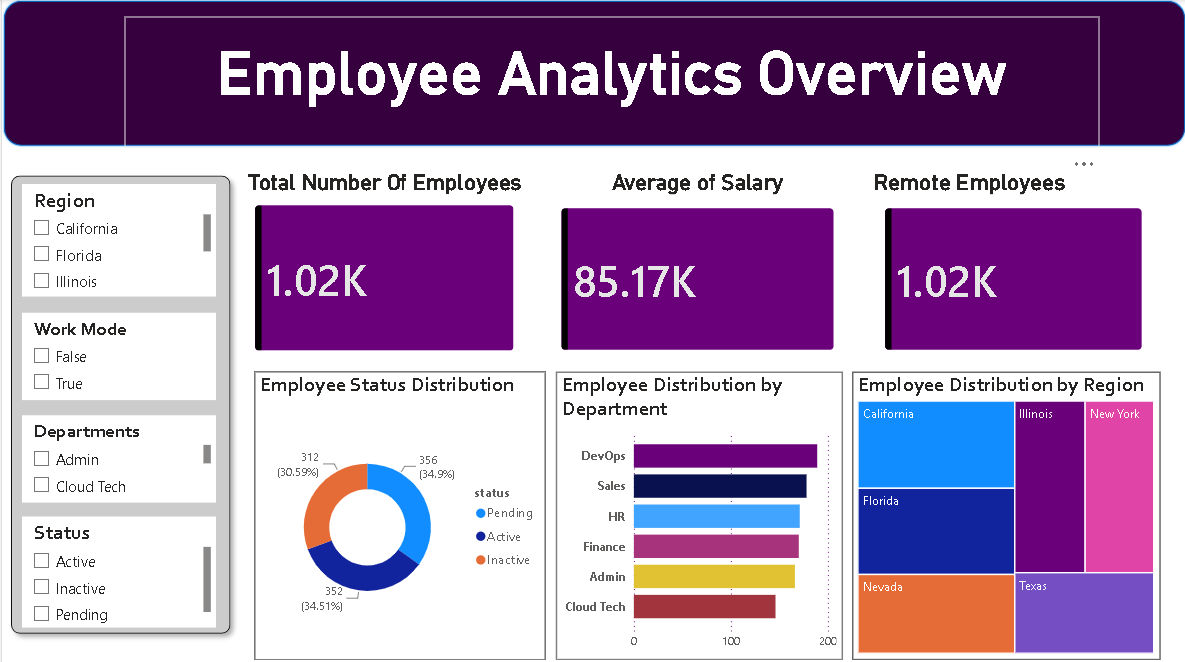

Layout of this report page (visuals, bound fields, positions):
{"tool":"powerbi","page":{"name":"Page 1","canvas":[1280,720],"ordinal":0},"visuals":[{"type":"shape","box":[0,0,1280.3,160.5],"z":0},{"type":"textbox","box":[131.7,19.2,1053.9,141.3],"z":1000},{"type":"cardVisual","title":"Total Number Of Employees","fields":{"Data":["Count(public employee_details.employee_id)"]},"box":[256.6,183.7,313.3,213.4],"z":2000},{"type":"cardVisual","title":"Average of Salary","fields":{"Data":["Avg(public employee_details.salary)"]},"box":[587.5,183.7,328.2,213.4],"z":3000},{"type":"cardVisual","title":"Remote Employees","fields":{"Data":["CountNonNull(public employee_details.remote_work)"]},"box":[937.2,183.7,312,213.4],"z":4000},{"type":"slicer","fields":{"Values":["public employee_details.age_group"]},"box":[21.6,199.9,209.3,133.7],"z":5000},{"type":"shape","box":[0,181,256.6,514.5],"z":6000},{"type":"slicer","fields":{"Values":["public employee_details.region"]},"box":[21.6,199.9,209.3,121.5],"z":7000},{"type":"slicer","fields":{"Values":["public employee_details.remote_work"]},"box":[21.6,339,209.3,94.5],"z":8000},{"type":"slicer","fields":{"Values":["public employee_details.department"]},"box":[21.6,449.7,209.3,94.5],"z":9000},{"type":"slicer","fields":{"Values":["public employee_details.status"]},"box":[21.6,559.1,209.3,120.2],"z":10000},{"type":"donutChart","title":"Employee Status Distribution","fields":{"Category":["public employee_details.status"],"Y":["Count(public employee_details.employee_id)"]},"box":[272.8,402.4,314.7,312],"z":11000},{"type":"clusteredBarChart","title":"Employee Distribution by Department","fields":{"Category":["public employee_details.department"],"Y":["Count(public employee_details.employee_id)"]},"box":[598.3,402.4,310.6,312],"z":12000},{"type":"treemap","title":"Employee Distribution by Region","fields":{"Group":["public employee_details.region"],"Values":["CountNonNull(public employee_details.employee_id)"]},"box":[918.3,402.4,333.6,312],"z":13000}]}

Visuals, with their boxes in screenshot pixels (x1, y1, x2, y2), scaled from the page's 1280x720 canvas onto the 1185x662 screenshot:
shape: pyautogui.locateOnScreen(0, 0, 1184, 148)
textbox: pyautogui.locateOnScreen(122, 18, 1098, 148)
"Total Number Of Employees" cardVisual: pyautogui.locateOnScreen(238, 169, 528, 365)
"Average of Salary" cardVisual: pyautogui.locateOnScreen(544, 169, 848, 365)
"Remote Employees" cardVisual: pyautogui.locateOnScreen(868, 169, 1156, 365)
slicer - public employee_details.age_group: pyautogui.locateOnScreen(20, 184, 214, 307)
shape: pyautogui.locateOnScreen(0, 166, 238, 639)
slicer - public employee_details.region: pyautogui.locateOnScreen(20, 184, 214, 296)
slicer - public employee_details.remote_work: pyautogui.locateOnScreen(20, 312, 214, 399)
slicer - public employee_details.department: pyautogui.locateOnScreen(20, 413, 214, 500)
slicer - public employee_details.status: pyautogui.locateOnScreen(20, 514, 214, 625)
"Employee Status Distribution" donutChart: pyautogui.locateOnScreen(253, 370, 544, 657)
"Employee Distribution by Department" clusteredBarChart: pyautogui.locateOnScreen(554, 370, 841, 657)
"Employee Distribution by Region" treemap: pyautogui.locateOnScreen(850, 370, 1159, 657)
